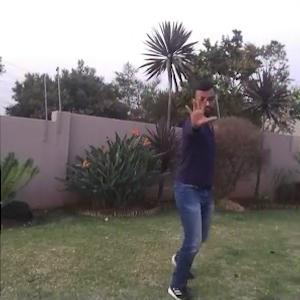follow_hand: (180, 90, 219, 129)
